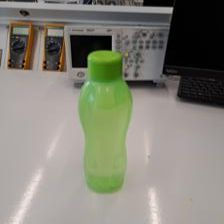bottle: (76, 48, 131, 194)
